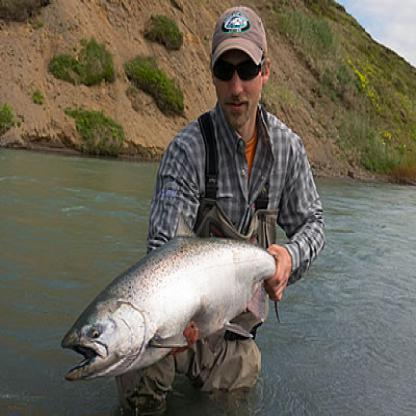fish: (59, 238, 283, 382)
